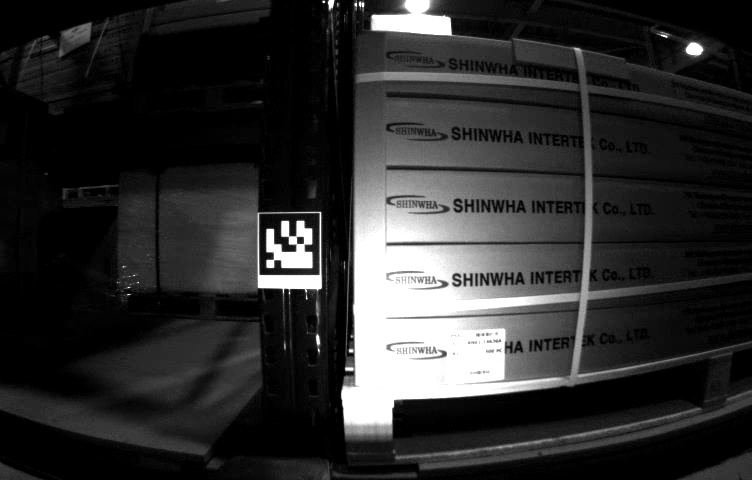True Barcode: (446, 328, 507, 377)
